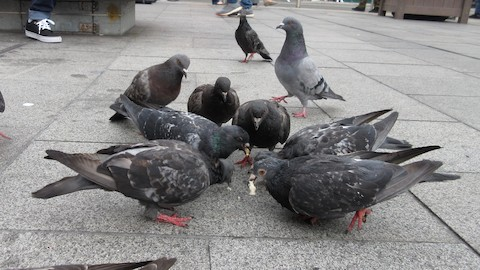pigeon: (243, 140, 457, 241), (39, 136, 239, 232), (262, 101, 421, 175), (268, 16, 352, 119), (107, 48, 196, 127), (227, 92, 298, 168), (181, 71, 241, 139), (229, 12, 275, 69)
